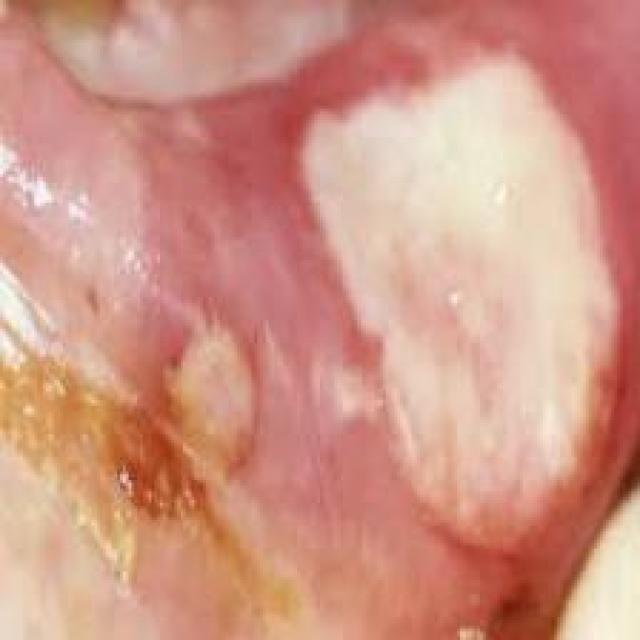processing_area: (2, 5, 636, 637)
ulcer-detection: (257, 17, 637, 573)
